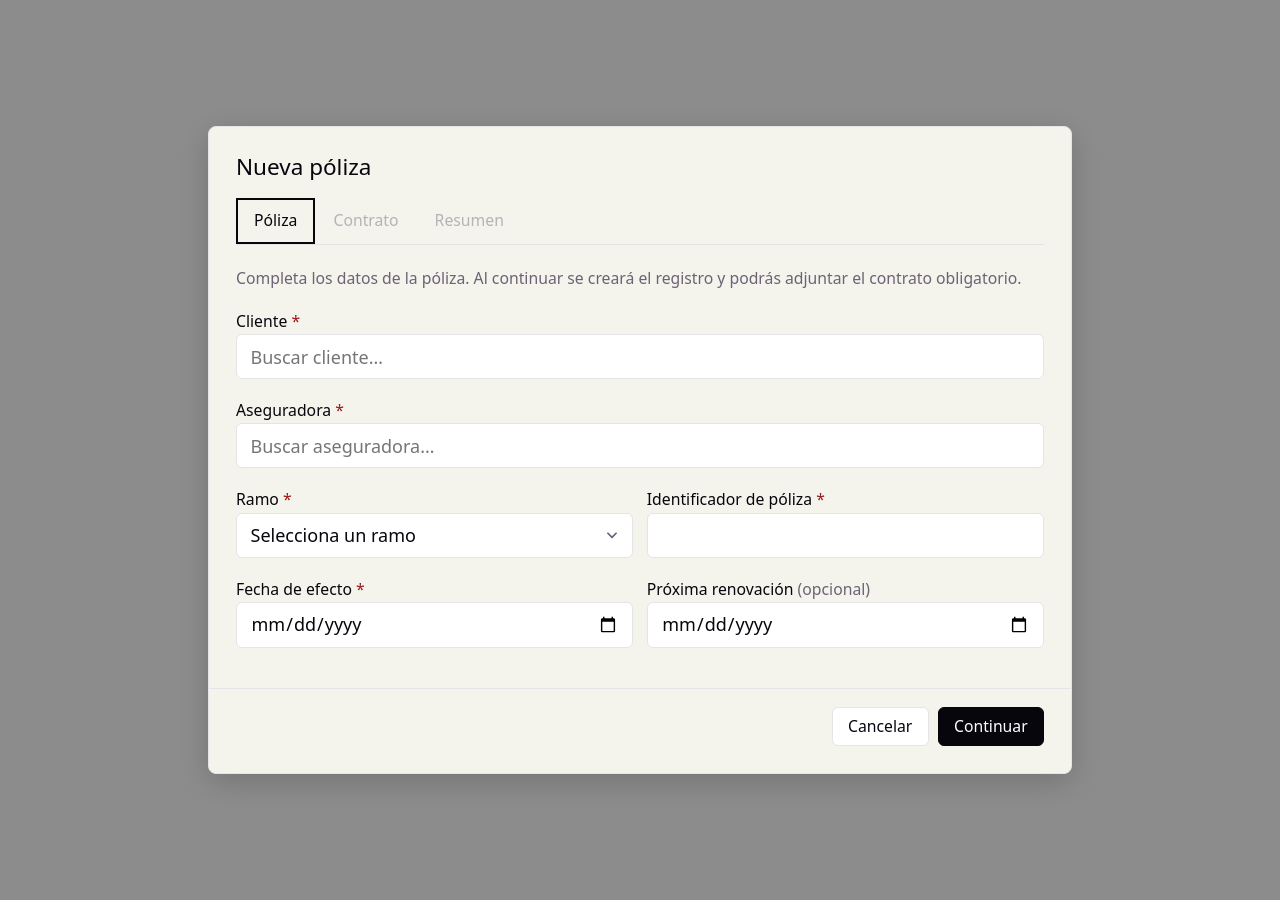
Test: InsurancePolicyOnboardingWizard › shows policy tab validation under the affected field when continuing without required fields
Step 1. Click the button "Continuar" → [991, 727], box [938,707,1044,746]
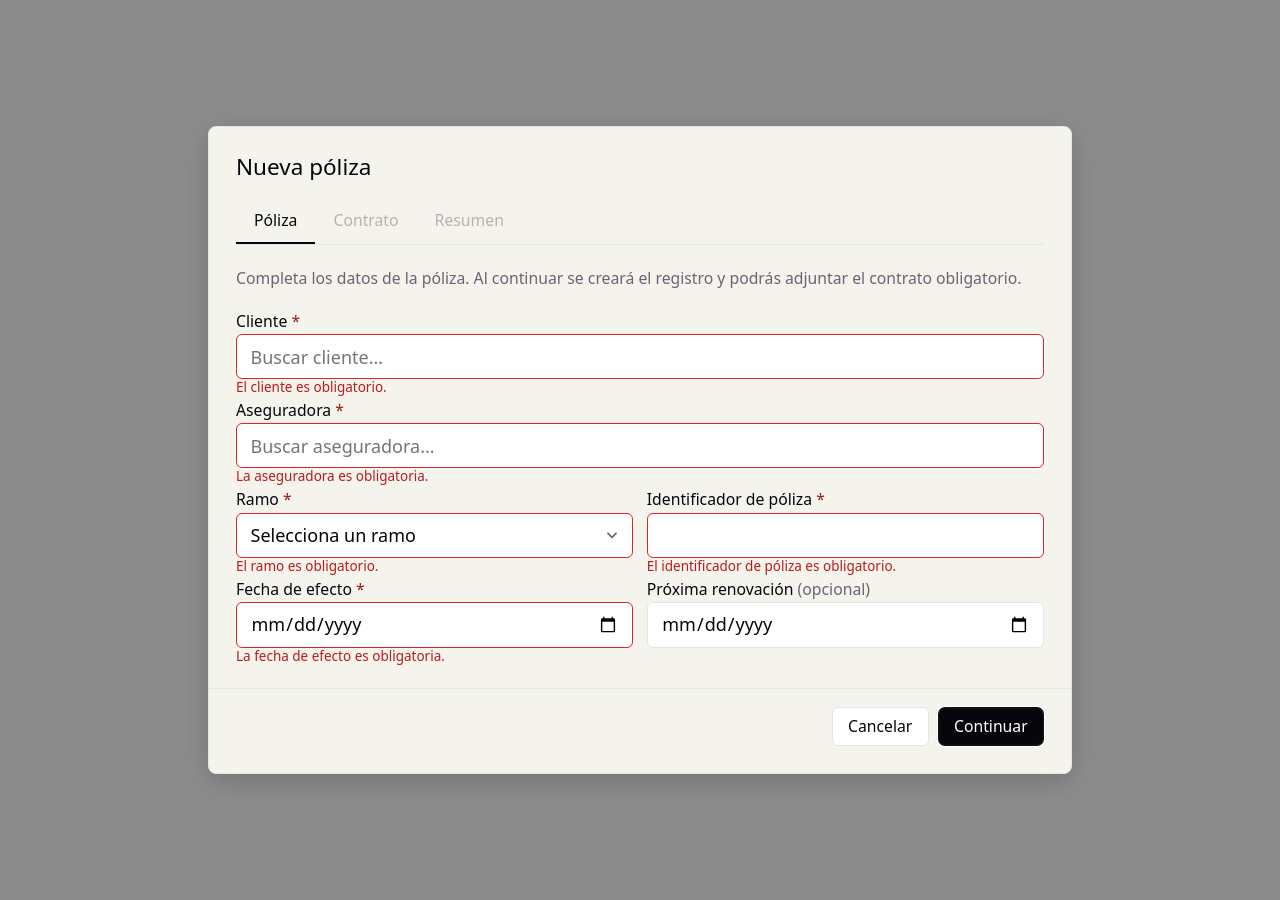
Expected: the tab "Contrato" is disabled, [315,198,417,244]
Now the message "El identificador de póliza es obligatorio." is shown, box [647,556,896,574]
